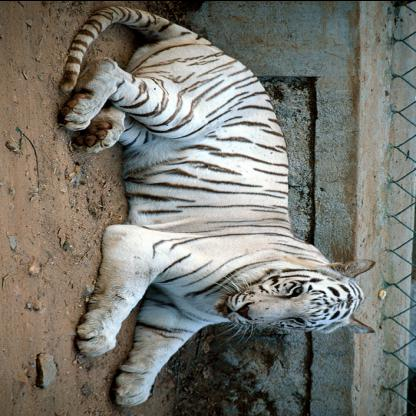tiger: (210, 262, 370, 336)
